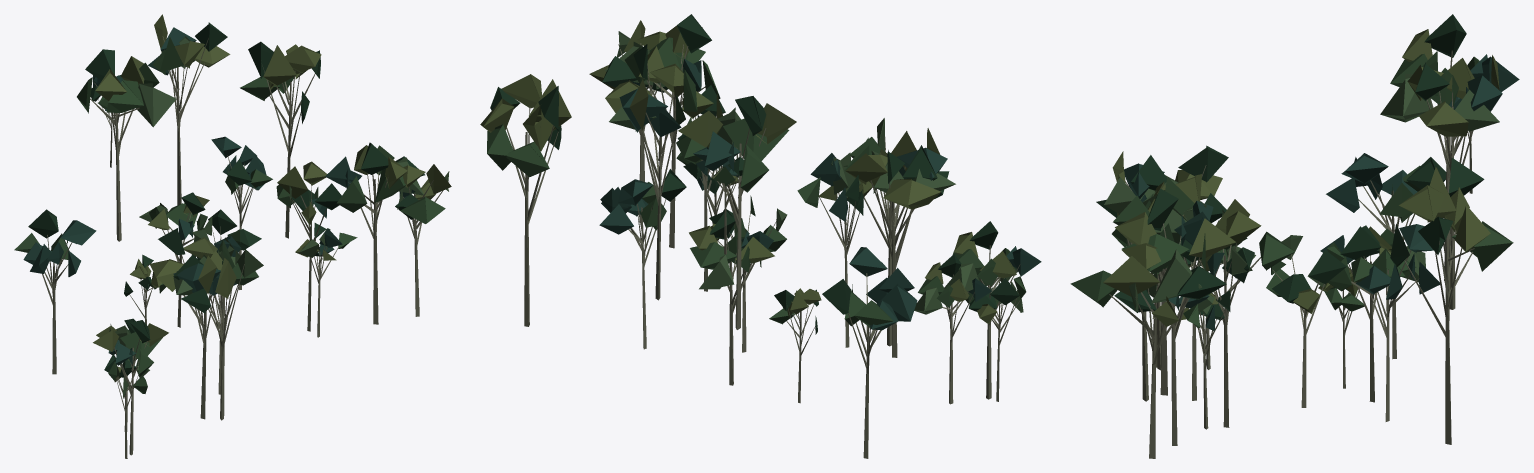
File: forest_18_23.dae
3 views of the same model, side by side, from view 1: azimuth 30°, elevation 25°; view 2: azimuth 150°, elevation 25°; view 3: azimuth 270°, elevation 25° (orthographic). The views are drawn at different scales.
Visible parts, largest first — view 1: Node; view 2: Node; view 3: Node.
Part boxes in pixels (<box>): Node: <box>14,14,451,458</box>; Node: <box>480,14,1041,458</box>; Node: <box>1070,14,1519,458</box>.
Size of the model in its own units: 9.99 by 8.39 by 8.76.
